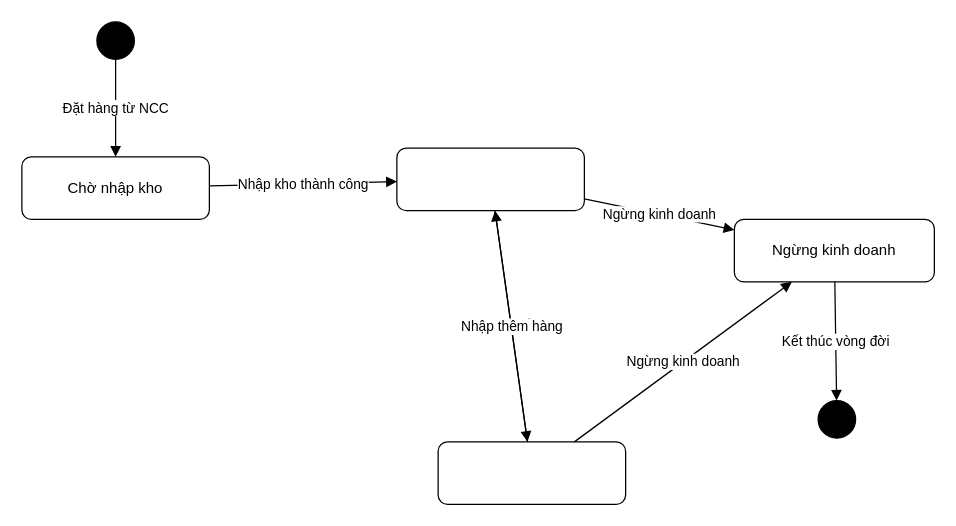
The diagram is 956 pixels wide and 526 high, and some of its shapes have lost their labels. Each missing label, with the centre of its shape:
"Còn hàng" belongs at [490,179].
"Hết hàng" belongs at [531,472].
